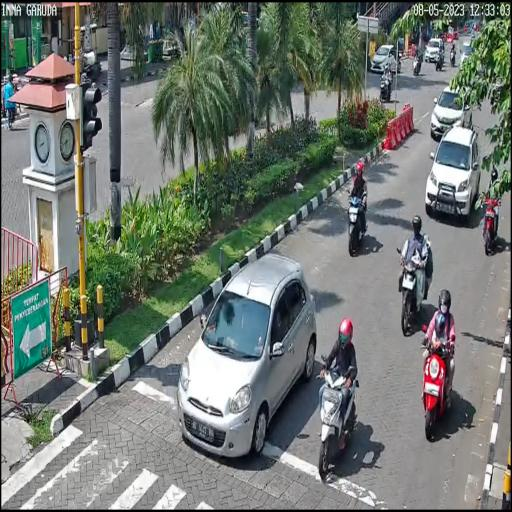mobil: (176, 247, 319, 467), (424, 126, 482, 221), (430, 80, 472, 140)
motor: (318, 359, 362, 485), (422, 318, 458, 444), (395, 231, 433, 333), (346, 185, 370, 259), (479, 188, 503, 257)
